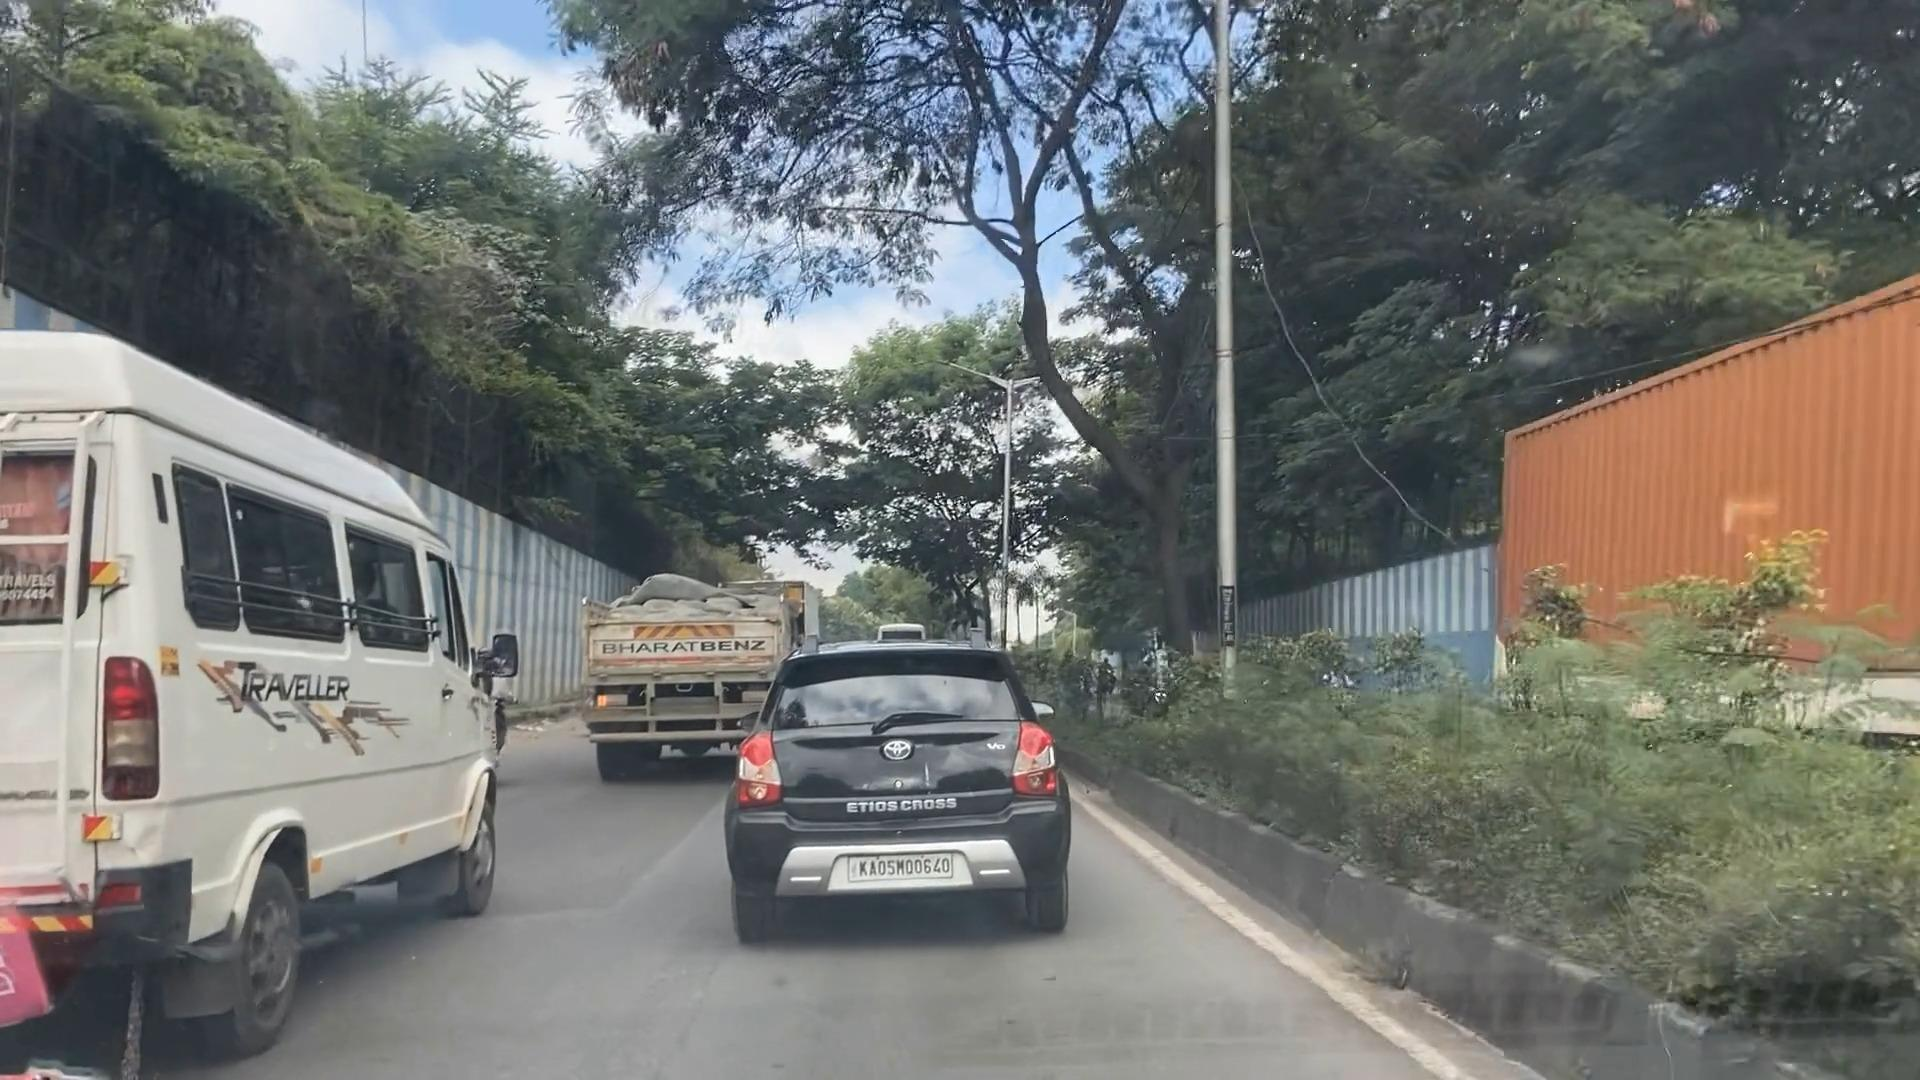HMV: (0, 338, 571, 1068), (575, 513, 828, 791)
LMV: (707, 608, 1130, 992)
